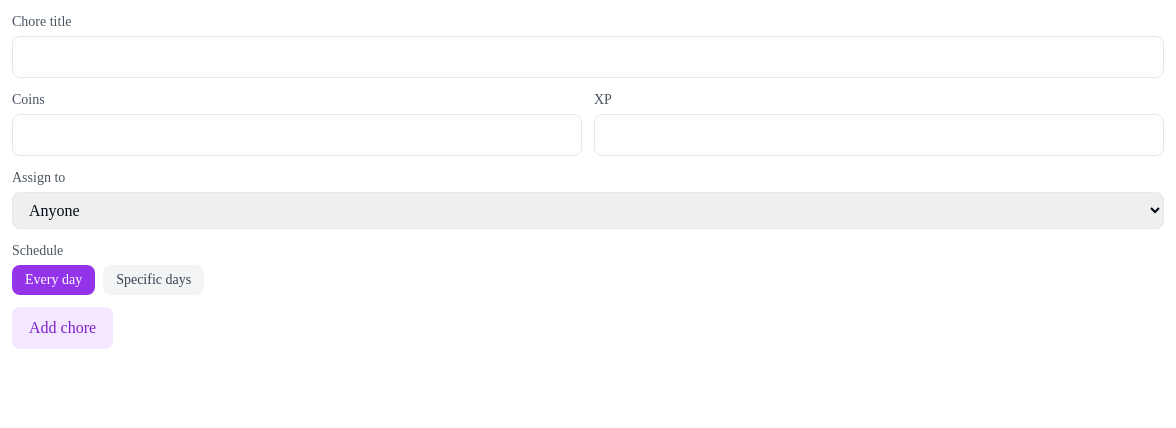
it: ChoreTemplateForm › clears the hint the moment a day is checked
Type "Take out bins" into the field labelled "Chore title". click: (588, 57)
box: [12,36,1164,78]
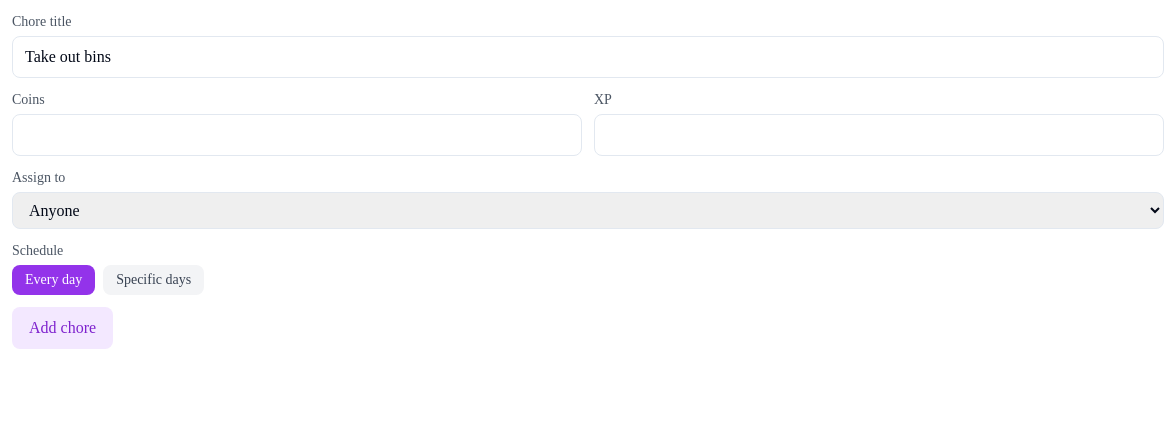
Type "8" into the number field labelled "Coins". click: (297, 135)
box: [12,114,582,156]
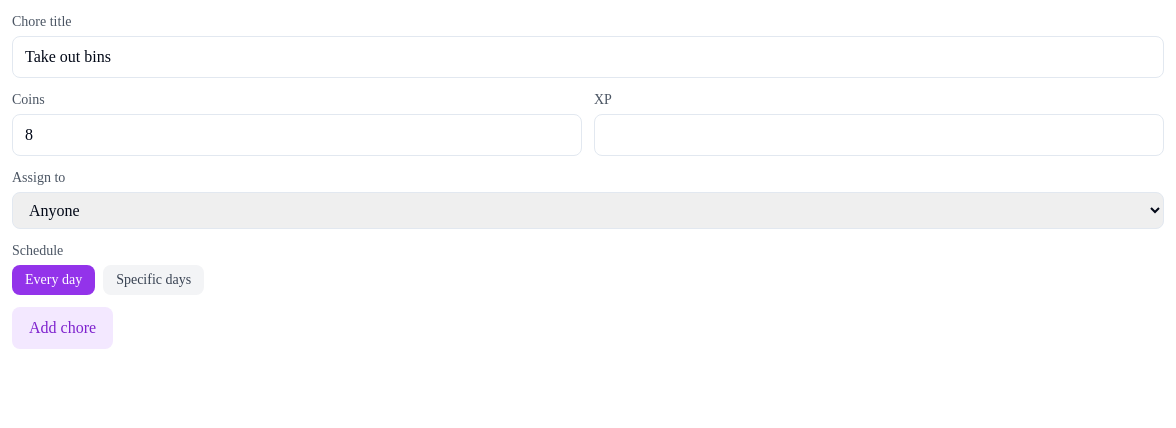
Type "4" into the number field labelled "XP". click: (879, 135)
box: [594,114,1164,156]
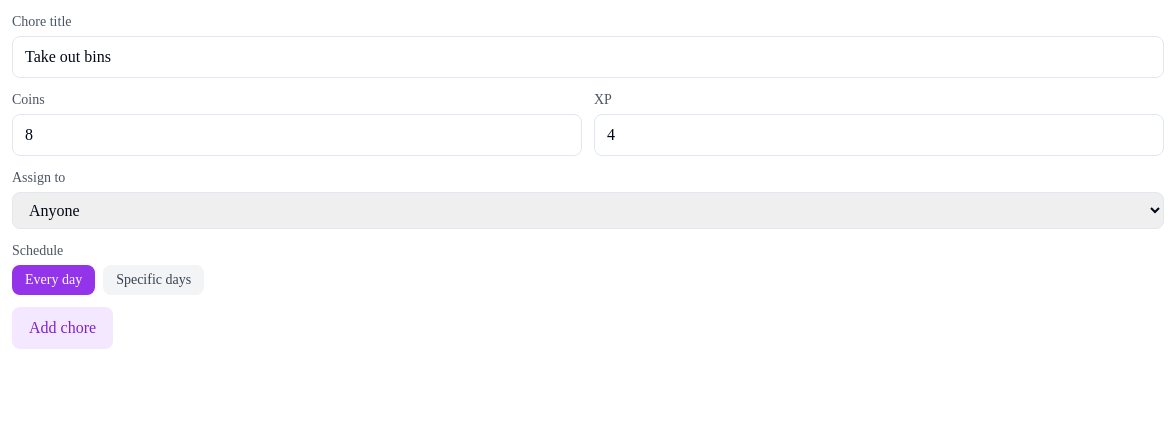
Click the button "Specific days". click: (154, 280)
box: [103,265,204,295]
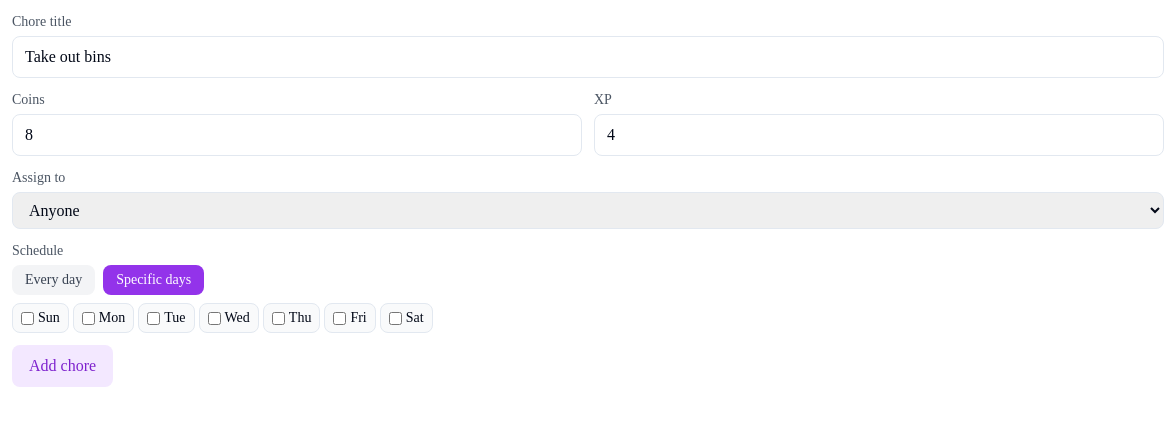
Click the button "Add chore". click: (63, 366)
box: [12,345,113,387]
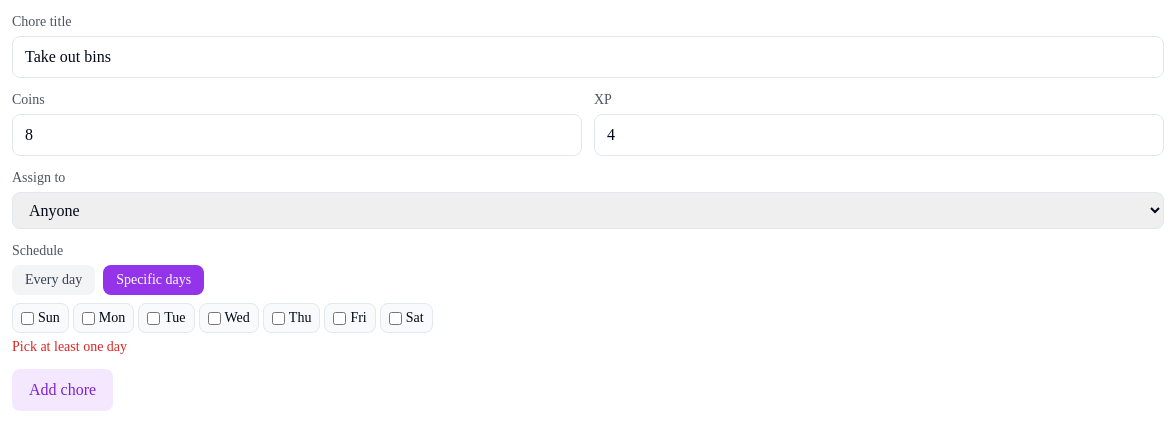
Now the text "Pick at least one day" is shown, box [12,339,127,354]
Click the checkbox labelled "Mon". click: (88, 318)
box: [82,312,95,324]
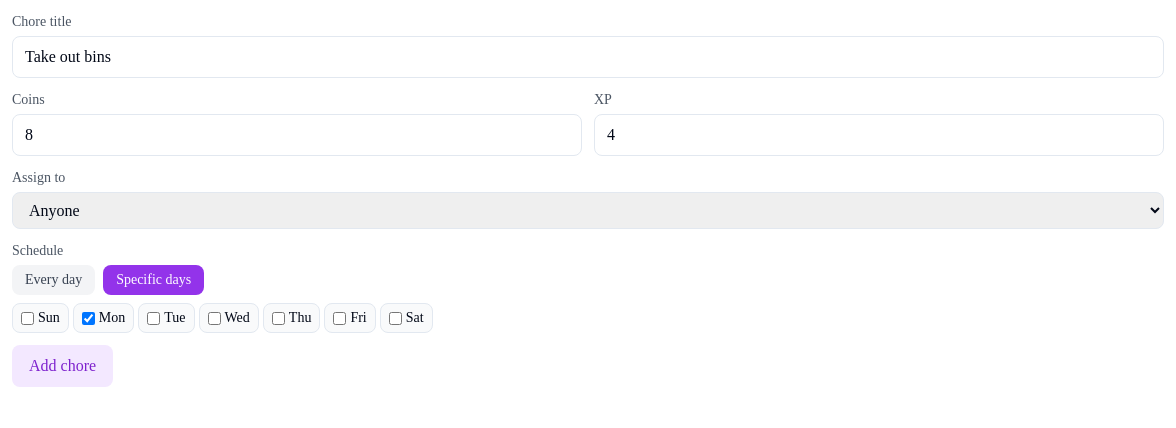
Now the text "Pick at least one day" is gone
